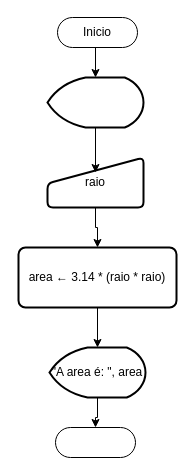
Some shapes in this 194 by 475 pixel diagram are drawn without their labels. The shapes that lost their labels are listed below. From the top down, each one's box as (x1, y1, x2, y2) in pixels, then its label:
(46, 76, 144, 128): "Digite o raio de um circulo "
(54, 426, 136, 458): Fim
